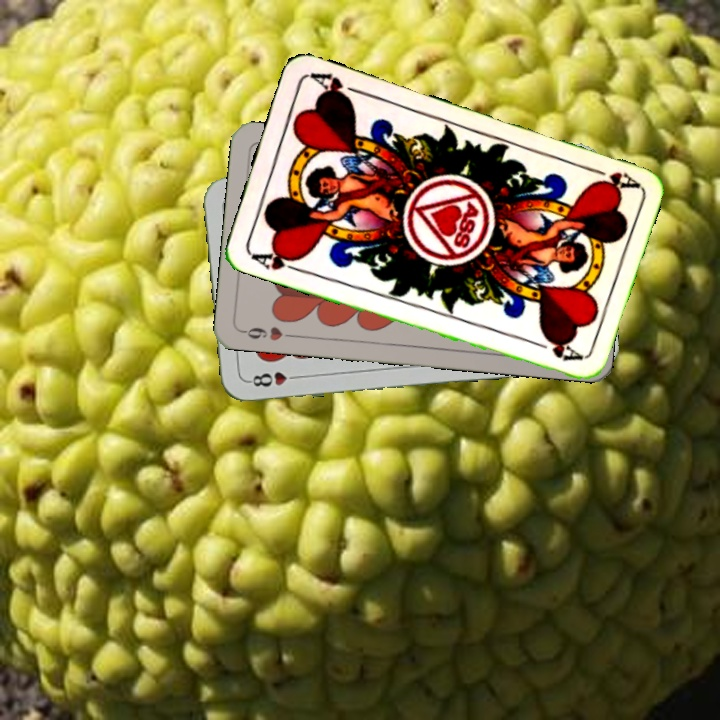H8: (245, 368, 304, 389)
H9: (238, 322, 297, 344)
HA: (582, 162, 640, 194), (246, 244, 305, 275)
